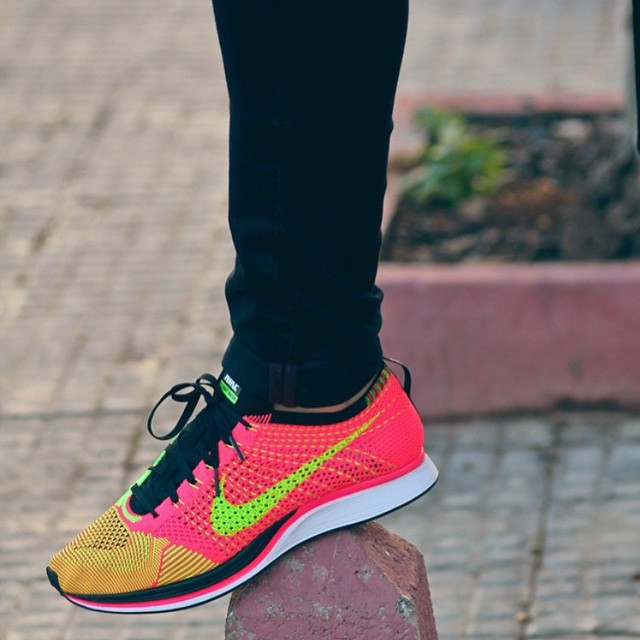sneaker: (17, 326, 466, 638)
